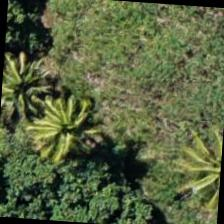Kelapa_Sawit: (5, 86, 100, 182), (0, 46, 75, 142)
